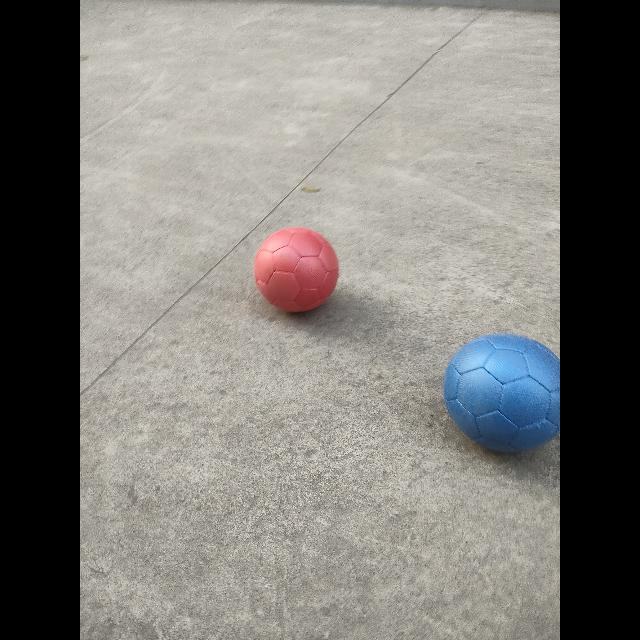B: (442, 334, 560, 454)
R: (254, 228, 338, 314)
